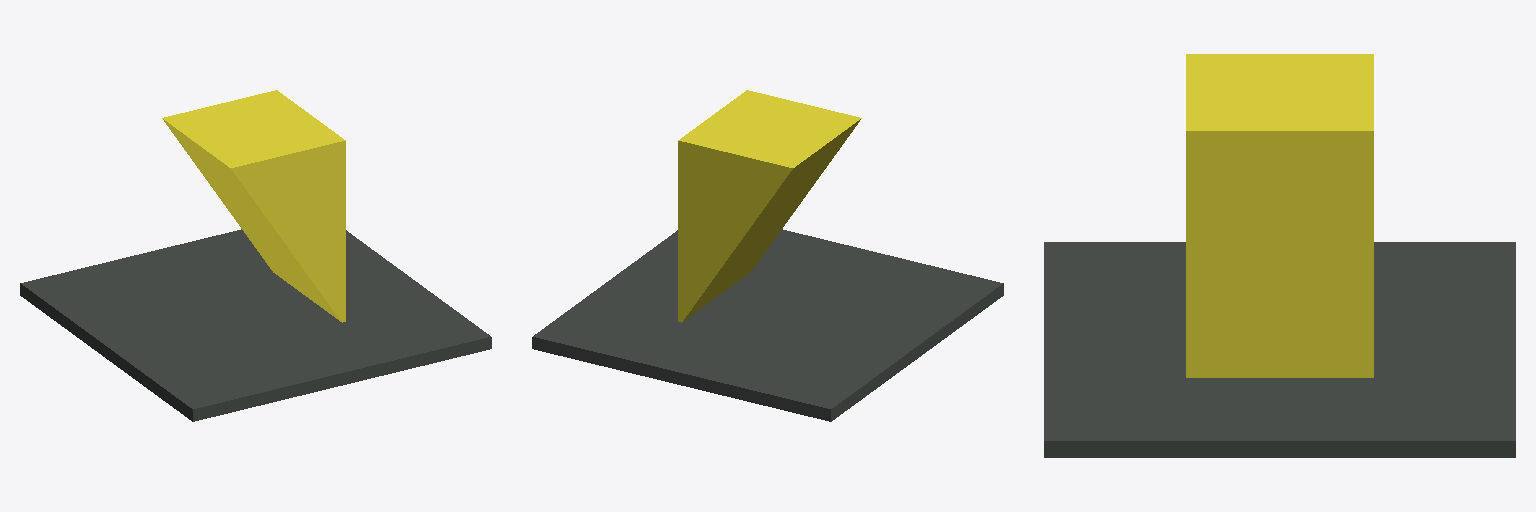
URDF robot description (ground_skeleton):
<?xml version="1.0"?>
<robot name="ground_skeleton">
    <material name="blue">
        <color rgba="0 0 0.8 1"/>
    </material>
    <material name="white">
        <color rgba="1 1 1 1"/>
    </material>
    <material name="greygreen">
        <color rgba="0.324 0.346 0.330 1"/>
    </material>
    <link name="world" />
    <link name="world_frame">
        <inertial>
            <mass value="0.000000001" />
            <origin xyz="0 0 0" rpy="0 0 0" />
            <inertia ixx="0.000000001" ixy="0.000000001" ixz="0.000000001" iyy="1.0" iyz="0" izz="1.0" />
        </inertial>
    </link>
    <link name="ground">
         <collision>
            <origin xyz= "0 0 0" rpy="0. 0 0" />
            <geometry>
                <box size="2.5 2.5 0.1" />
            </geometry>
        </collision>
         <visual name="visual">
            <origin xyz = "0 0 0" rpy="0. 0 0" />
            <geometry>
                <box size="2.5 2.5 0.1" />
            </geometry>
            <material name="greygreen"/>
        </visual>
        <inertial>
            <mass value="1.0" />
            <origin xyz="0 0 0" rpy="0 0 0" />
            <inertia ixx="1.0" ixy="0" ixz="0" iyy="1.0" iyz="0" izz="1.0" />
        </inertial>
    </link>
    <link name="ground_link">
         <collision>
            <origin xyz= "-0.0 -0.0 0.0" rpy="3.141592 0. 0." />
            <geometry>
        	    <mesh filename="meshes/slope.obj"/>
      	    </geometry>
        </collision>
         <visual name="visual">
            <origin xyz = "-0.0 -0.0 0.0" rpy="3.141592 0.  0." />
            <geometry>
        	    <mesh filename="meshes/slope.obj"/>
            </geometry>
        </visual>
        <inertial>
            <mass value="1.0" />
            <origin xyz="0 0 0" rpy="0 0 0" />
            <inertia ixx="1.0" ixy="0" ixz="0" iyy="1.0" iyz="0" izz="1.0" />
        </inertial>
    </link>
    <joint name="ground_joint" type="fixed">
        <origin xyz="-0.50 -0.5 1.5" rpy="0. 1. 0." />
        <parent link="world" />
        <child link="ground_link" />
    </joint>
    <joint name="frame_joint" type="fixed">
        <origin xyz="0 0 0" rpy="0 0 0" />
        <parent link="world" />
        <child link="world_frame" />
    </joint>
    <joint name="ground_flat_joint" type="fixed">
        <origin xyz="0.0 0.0 -0.0" rpy="0 0.0 0.0" />
        <parent link="world" />
        <child link="ground" />
    </joint>
</robot>

--- Render facts (derived) ---
3 views of the same robot in one strip: view 1: azimuth 30°, elevation 25°; view 2: azimuth 150°, elevation 25°; view 3: azimuth 270°, elevation 25° (orthographic).
Robot: ground_skeleton — 4 links, 3 joints (3 fixed); root link world; default pose: every joint at zero.
Visible links, largest first — view 1: ground, ground_link; view 2: ground, ground_link; view 3: ground, ground_link.
Link boxes in pixels (x1,y1,x2,y2): ground: (20,229,491,421); ground_link: (162,90,345,322); ground: (532,229,1003,421); ground_link: (678,90,861,322); ground: (1044,242,1515,457); ground_link: (1186,54,1373,377).
Size in the robot's own frame: 2.5 by 2.5 by 1.55 metres.
Meshes: 1 distinct files referenced, 1 mesh visuals loaded (1 OBJ).